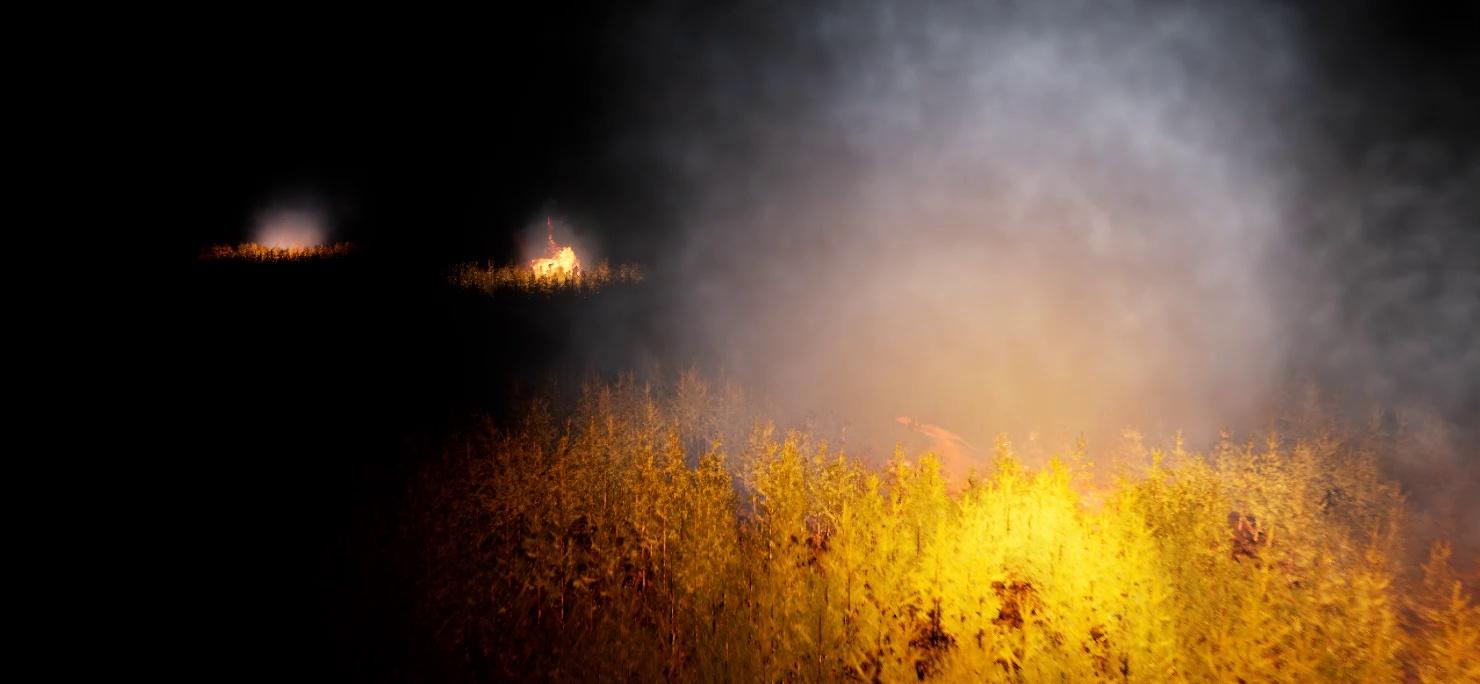fire: (534, 368, 1479, 683), (526, 246, 591, 283)
smoke: (579, 0, 1479, 481), (524, 210, 604, 268), (254, 196, 333, 247)
